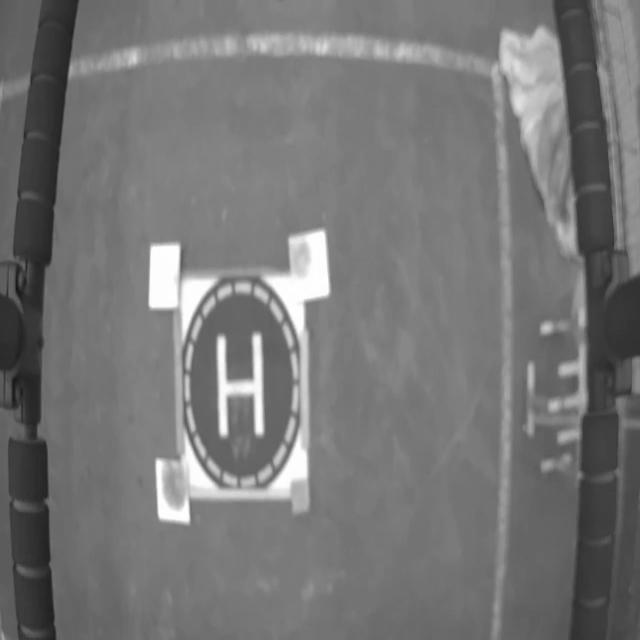Helipad: (216, 331, 266, 438)
